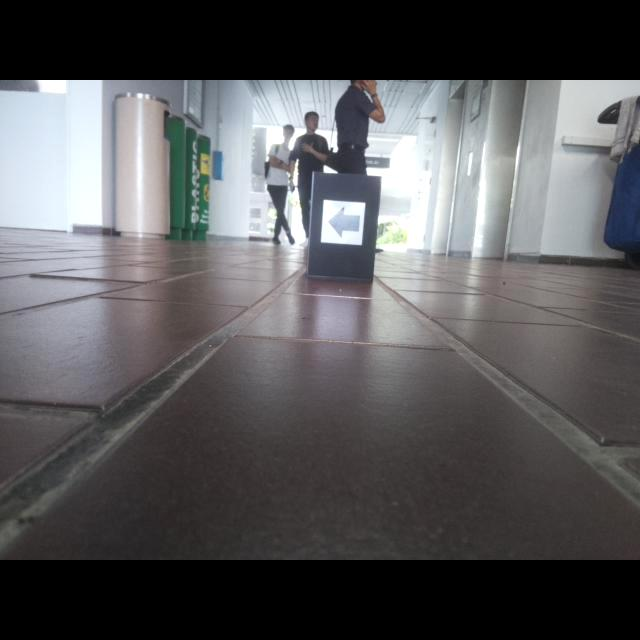LEFT: (328, 206, 361, 239)
